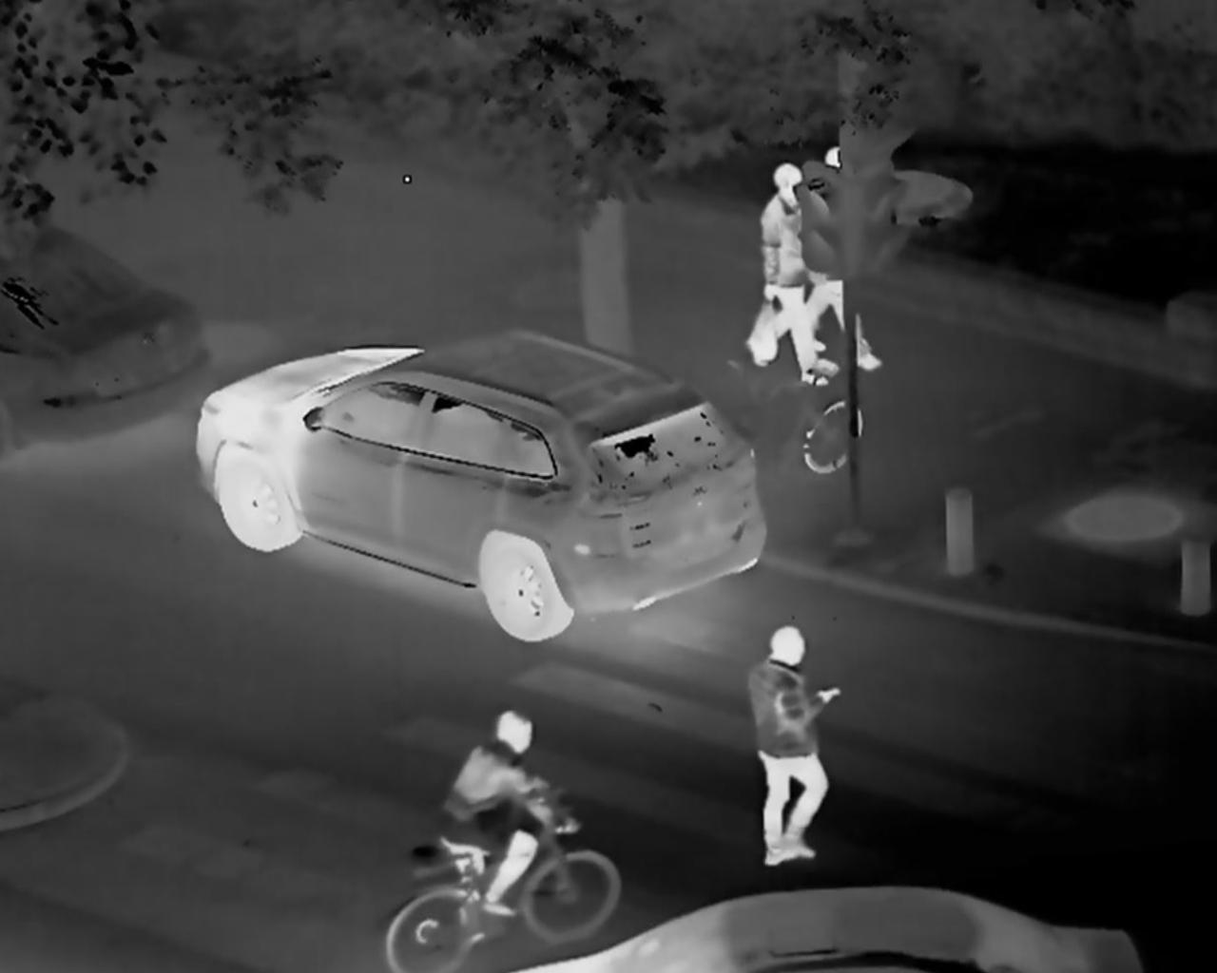person: (434, 709, 554, 944), (746, 628, 834, 866), (798, 143, 878, 372), (754, 162, 823, 381)
